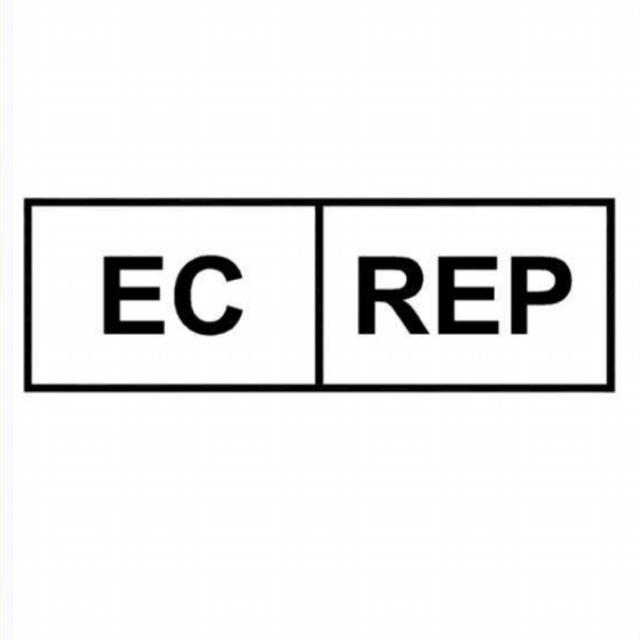Authorized Representative: (26, 197, 617, 396)
